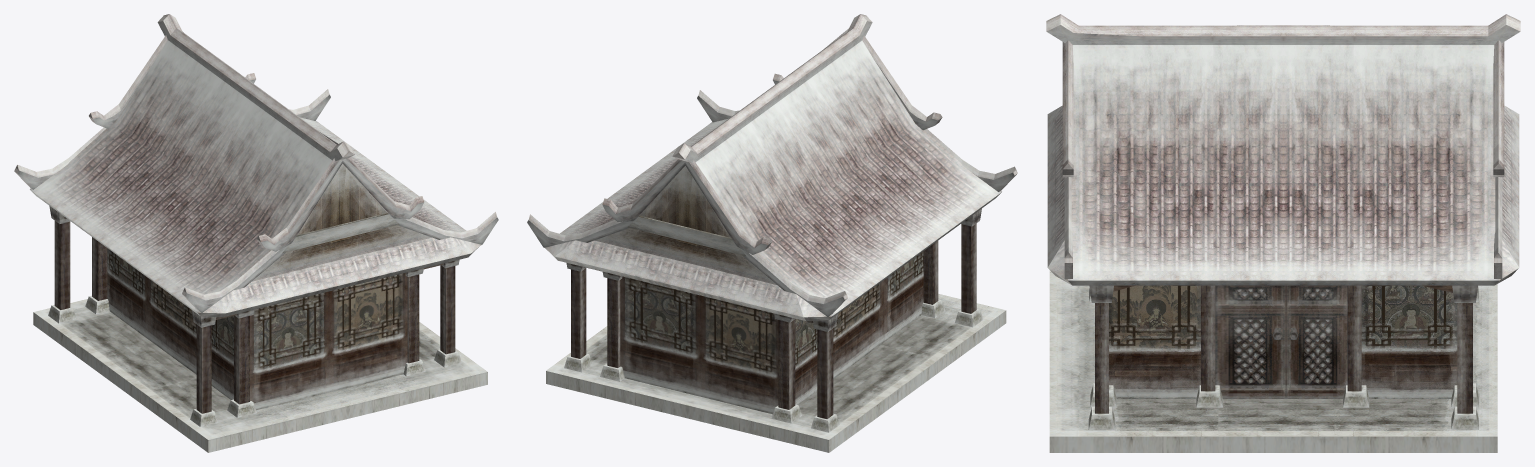
The model's file is snow-032-shamanhouse.fbx.
3 renders of one model, left to right at view 1: azimuth 30°, elevation 25°; view 2: azimuth 150°, elevation 25°; view 3: azimuth 270°, elevation 25°, orthographic. The views are drawn at different scales.
Visible parts, largest first — view 1: desert-032-shamanhouse-2; view 2: desert-032-shamanhouse-2; view 3: desert-032-shamanhouse-2.
Boxes of the visible parts, x1,y1,x2,y2 form: desert-032-shamanhouse-2: (14, 14, 498, 452); desert-032-shamanhouse-2: (527, 14, 1017, 452); desert-032-shamanhouse-2: (1046, 14, 1520, 452).
Size of the model in its own units: 8.08 by 6.75 by 8.26.
